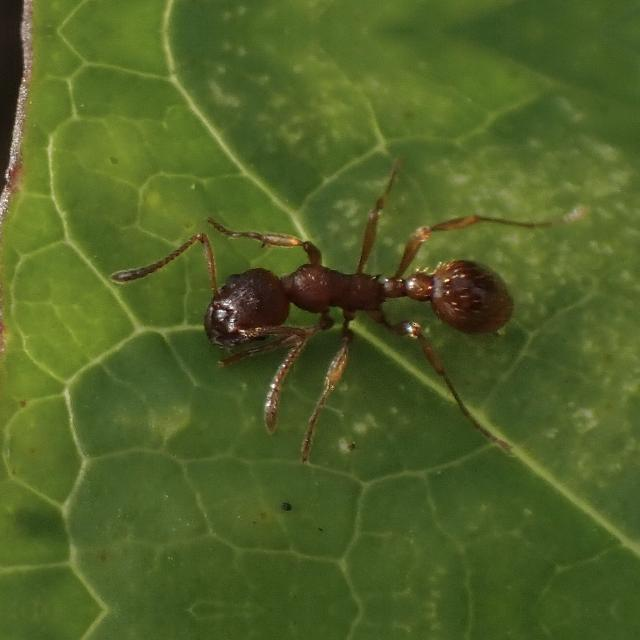Myrmica: (167, 178, 537, 400)
